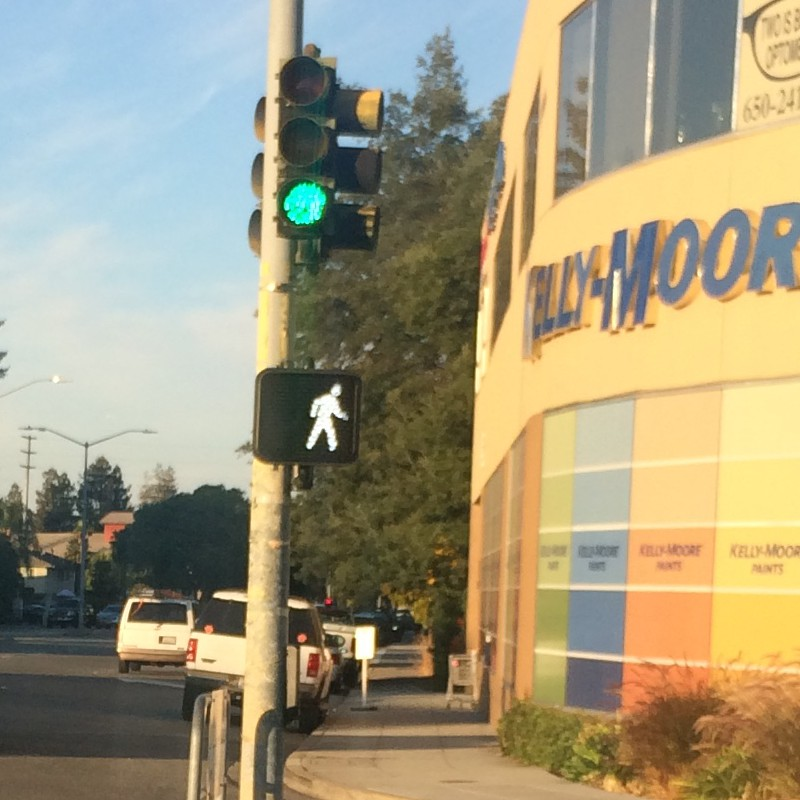go: (248, 369, 367, 470)
